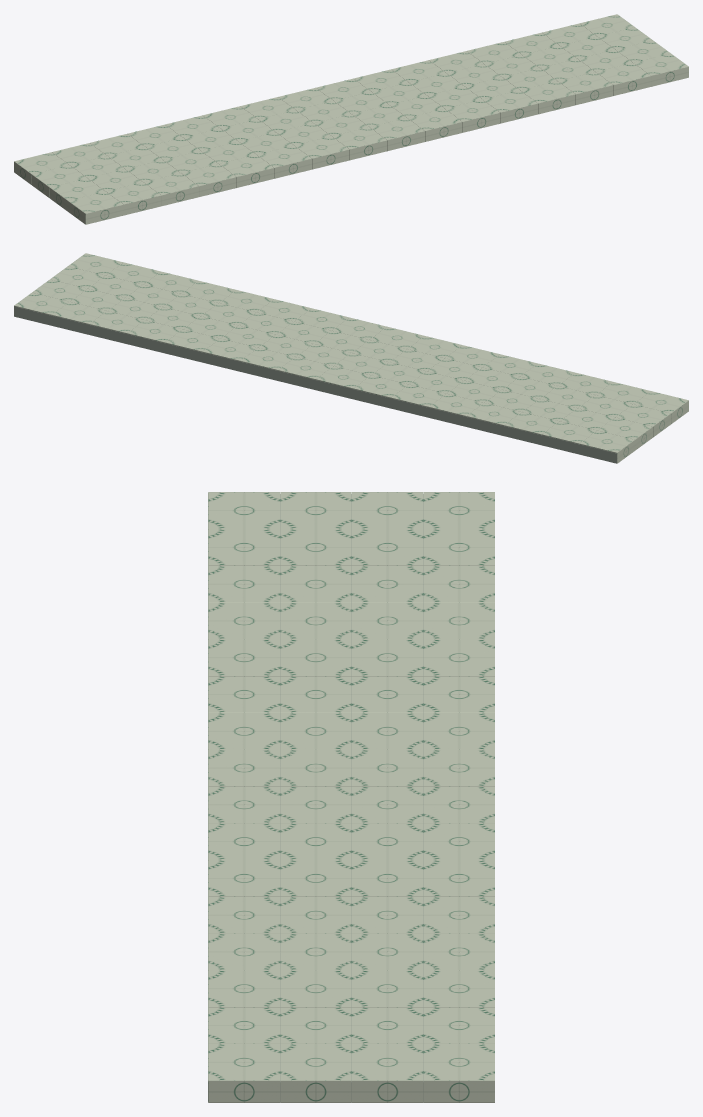
The model's file is teacher_platform.glb.
The picture shows the model from 3 angles, top to bottom: view 1: azimuth 30°, elevation 25°; view 2: azimuth 150°, elevation 25°; view 3: azimuth 270°, elevation 25°; orthographic projection. The views are drawn at different scales.
Visible parts, largest first — view 1: Platform_Top_Tile_00_06, Platform_Top_Tile_01_02, Platform_Top_Tile_01_06, Platform_Top_Tile_01_07, Platform_Top_Tile_01_12, Platform_Top_Tile_02_06, Platform_Top_Tile_02_07, Platform_Top_Tile_02_15, Platform_Top_Tile_03_06, Platform_Top_Tile_03_09, Platform_Top_Tile_03_11, Platform_Top_Tile_00_04 (+68 smaller); view 2: Platform_Single_Raised_Base, Platform_Top_Tile_03_03, Platform_Top_Tile_03_04, Platform_Top_Tile_03_05, Platform_Top_Tile_03_06, Platform_Top_Tile_03_10, Platform_Top_Tile_03_11, Platform_Top_Tile_03_13, Platform_Top_Tile_03_15, Platform_Top_Tile_03_01, Platform_Top_Tile_03_07, Platform_Top_Tile_03_08 (+53 smaller); view 3: Platform_Top_Tile_01_03, Platform_Top_Tile_01_04, Platform_Top_Tile_01_07, Platform_Top_Tile_01_08, Platform_Top_Tile_01_12, Platform_Top_Tile_01_13, Platform_Top_Tile_00_04, Platform_Top_Tile_00_07, Platform_Top_Tile_00_13, Platform_Top_Tile_02_04, Platform_Top_Tile_02_07, Platform_Top_Tile_02_13 (+57 smaller).
Boxes of the visible parts, box(x1,y1,x2,y2) form: Platform_Top_Tile_00_06: box(294, 136, 349, 158); Platform_Top_Tile_01_02: box(125, 160, 180, 182); Platform_Top_Tile_01_06: box(276, 123, 331, 145); Platform_Top_Tile_01_07: box(314, 114, 368, 135); Platform_Top_Tile_01_12: box(502, 68, 557, 90); Platform_Top_Tile_02_06: box(258, 110, 313, 132); Platform_Top_Tile_02_07: box(296, 101, 350, 122); Platform_Top_Tile_02_15: box(597, 27, 652, 49); Platform_Top_Tile_03_06: box(240, 97, 295, 119); Platform_Top_Tile_03_09: box(353, 69, 408, 91); Platform_Top_Tile_03_11: box(429, 51, 483, 73); Platform_Top_Tile_00_04: box(219, 154, 273, 176); Platform_Single_Raised_Base: box(14, 306, 616, 463); Platform_Top_Tile_03_03: box(466, 403, 521, 425); Platform_Top_Tile_03_04: box(428, 394, 483, 416); Platform_Top_Tile_03_05: box(391, 384, 446, 407); Platform_Top_Tile_03_06: box(353, 375, 408, 398); Platform_Top_Tile_03_10: box(203, 338, 257, 361); Platform_Top_Tile_03_11: box(165, 329, 220, 352); Platform_Top_Tile_03_13: box(89, 311, 144, 333); Platform_Top_Tile_03_15: box(14, 292, 69, 315); Platform_Top_Tile_03_01: box(542, 421, 596, 444); Platform_Top_Tile_03_07: box(315, 366, 370, 388); Platform_Top_Tile_03_08: box(278, 357, 332, 379); Platform_Top_Tile_01_03: box(280, 602, 351, 639); Platform_Top_Tile_01_04: box(280, 639, 351, 676); Platform_Top_Tile_01_07: box(280, 749, 351, 786); Platform_Top_Tile_01_08: box(280, 786, 351, 823); Platform_Top_Tile_01_12: box(280, 933, 351, 970); Platform_Top_Tile_01_13: box(280, 970, 351, 1007); Platform_Top_Tile_00_04: box(208, 639, 279, 676); Platform_Top_Tile_00_07: box(208, 749, 279, 786); Platform_Top_Tile_00_13: box(208, 970, 279, 1007); Platform_Top_Tile_02_04: box(352, 639, 423, 676); Platform_Top_Tile_02_07: box(352, 749, 423, 786); Platform_Top_Tile_02_13: box(352, 970, 423, 1007).
Size of the model in its own units: 9.14 by 0.16 by 1.88.
Materials: 2 (1 with a texture image).
